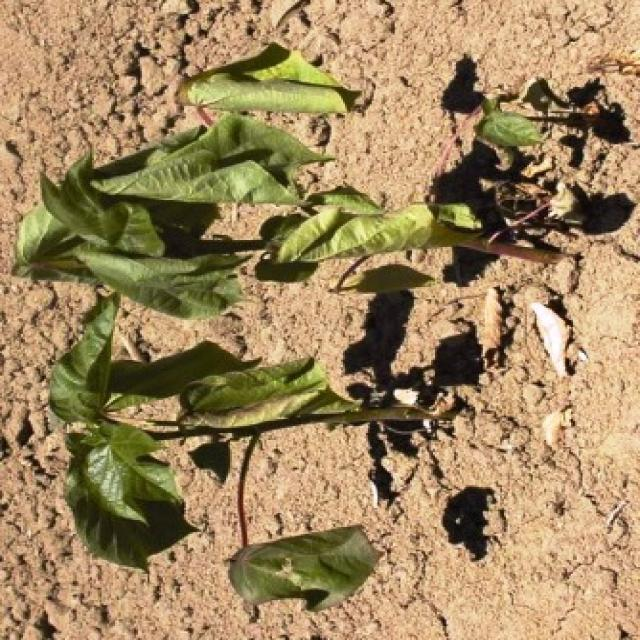Fusarium Wilt: (26, 30, 416, 640)
